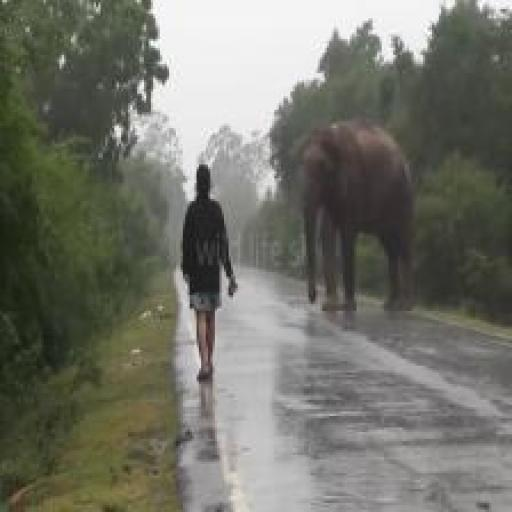Elephant: (277, 114, 432, 351)
